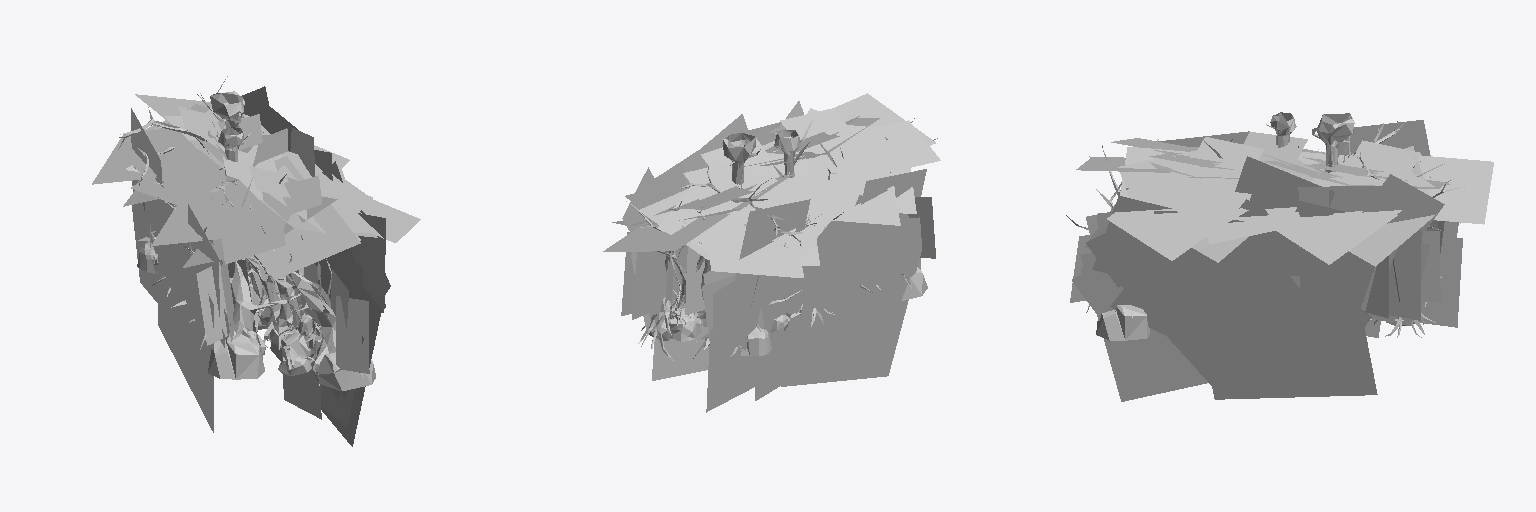
3 views of the same model, side by side, from view 1: azimuth 30°, elevation 25°; view 2: azimuth 150°, elevation 25°; view 3: azimuth 270°, elevation 25° (orthographic).
Parts seen in each view (by area): view 1: Material_#131, wall_03, Material_#10; view 2: Material_#131, wall_03, Material_#10; view 3: Material_#131, Material_#10, wall_03.
Part boxes in pixels (left/top/right/bottom): Material_#131: left=92, top=86, right=420, bottom=446; wall_03: left=118, top=76, right=363, bottom=385; Material_#10: left=126, top=91, right=375, bottom=390; Material_#131: left=603, top=93, right=940, bottom=412; wall_03: left=626, top=118, right=937, bottom=360; Material_#10: left=650, top=130, right=927, bottom=355; Material_#131: left=1070, top=120, right=1493, bottom=401; Material_#10: left=1096, top=112, right=1420, bottom=340; wall_03: left=1066, top=121, right=1464, bottom=337.
Size of the model in its own units: 13.97 by 15.44 by 21.78.